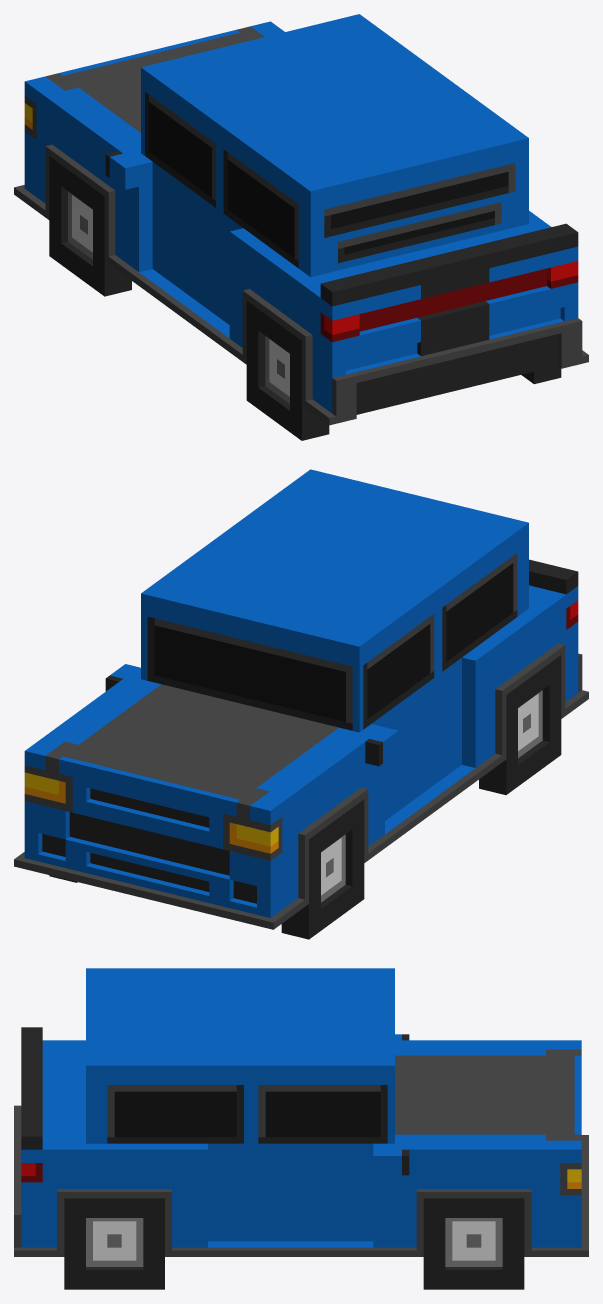
3 views of the same model, one above another, from view 1: azimuth 30°, elevation 25°; view 2: azimuth 150°, elevation 25°; view 3: azimuth 270°, elevation 25° (orthographic). The views are drawn at different scales.
Parts seen in each view (by area): view 1: alll cars3-162; view 2: alll cars3-162; view 3: alll cars3-162.
Part boxes in pixels (bbox=[...]): alll cars3-162: bbox=[14, 14, 588, 440]; alll cars3-162: bbox=[14, 469, 588, 939]; alll cars3-162: bbox=[14, 968, 588, 1289].
Size of the model in its own units: 2.97 by 2.45 by 5.93.
Materials: 1 (1 with a texture image).
